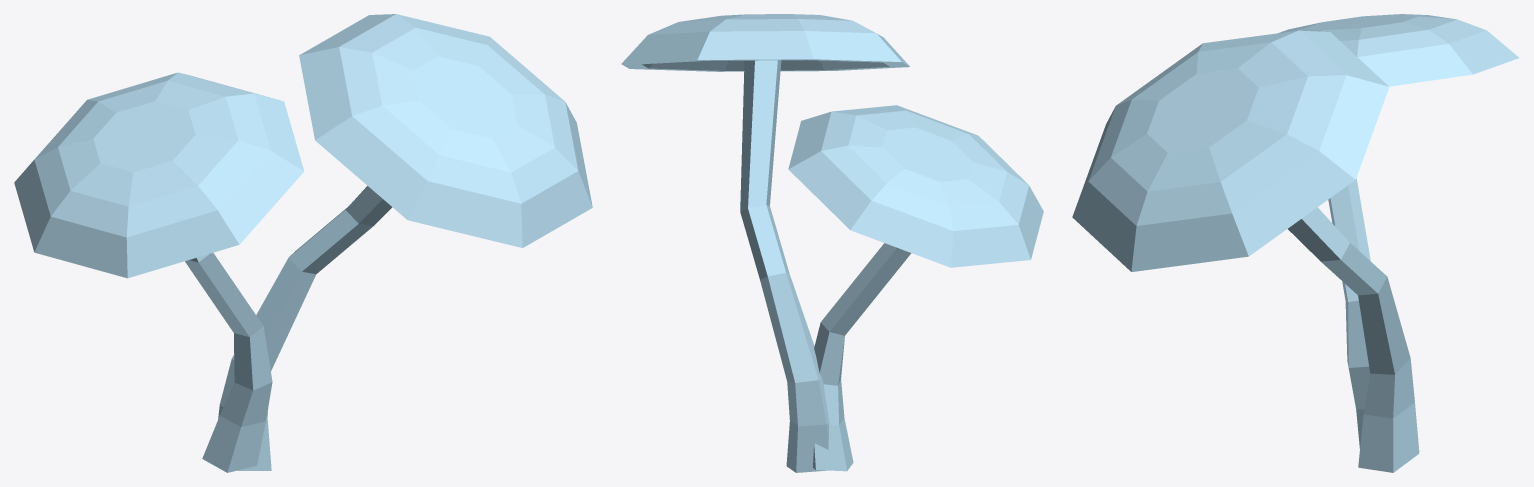
The model's file is Mushrooms_01.fbx.
3 renders of one model, left to right at view 1: azimuth 30°, elevation 25°; view 2: azimuth 150°, elevation 25°; view 3: azimuth 270°, elevation 25°, orthographic. The views are drawn at different scales.
Visible parts, largest first — view 1: Mushrooms_01; view 2: Mushrooms_01; view 3: Mushrooms_01.
Boxes of the visible parts, box(x1,y1,x2,y2) form: Mushrooms_01: box(14, 14, 592, 472); Mushrooms_01: box(621, 14, 1043, 472); Mushrooms_01: box(1072, 14, 1518, 472).
Size of the model in its own units: 1.39 by 1.04 by 1.18.
